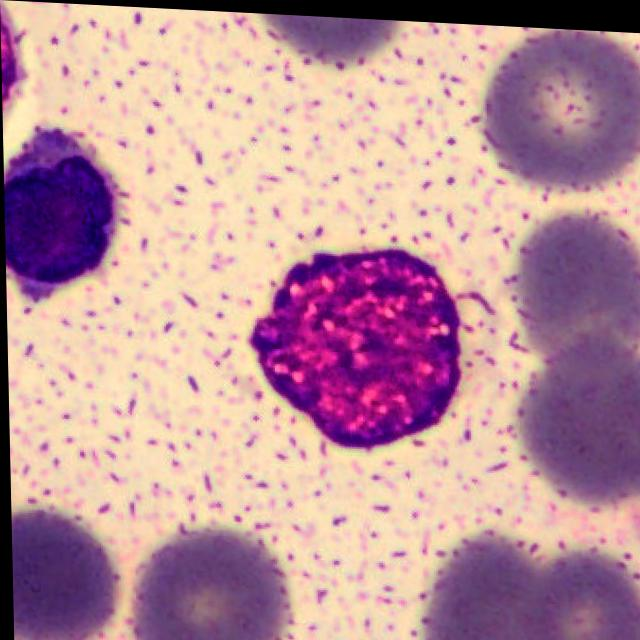Restos celulares: (248, 242, 461, 444)
